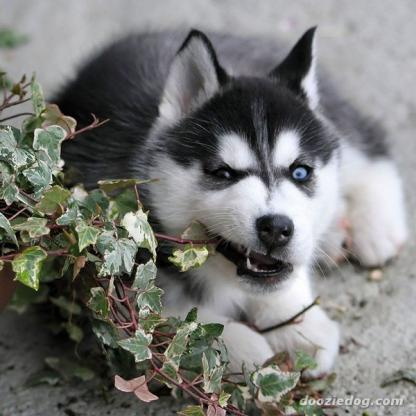dog: (43, 26, 407, 375)
